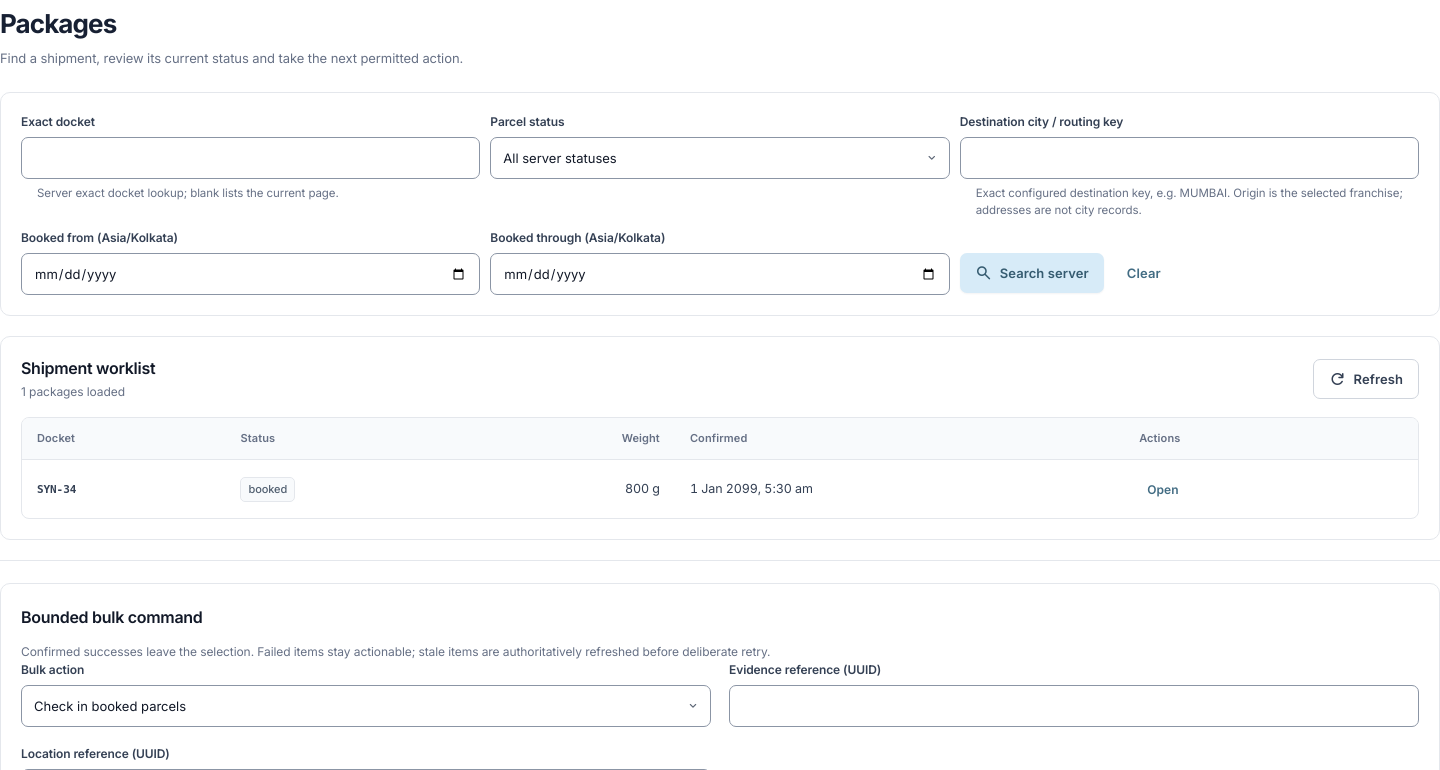
Test case: production operational screens › uses guarded package actions and directs new money recording to receipt evidence without OTP or delivery bypasses
Step 1. Click the button "Open" → x=1163, y=489, box left=1139, top=472, right=1187, bottom=506
(page scrolled)
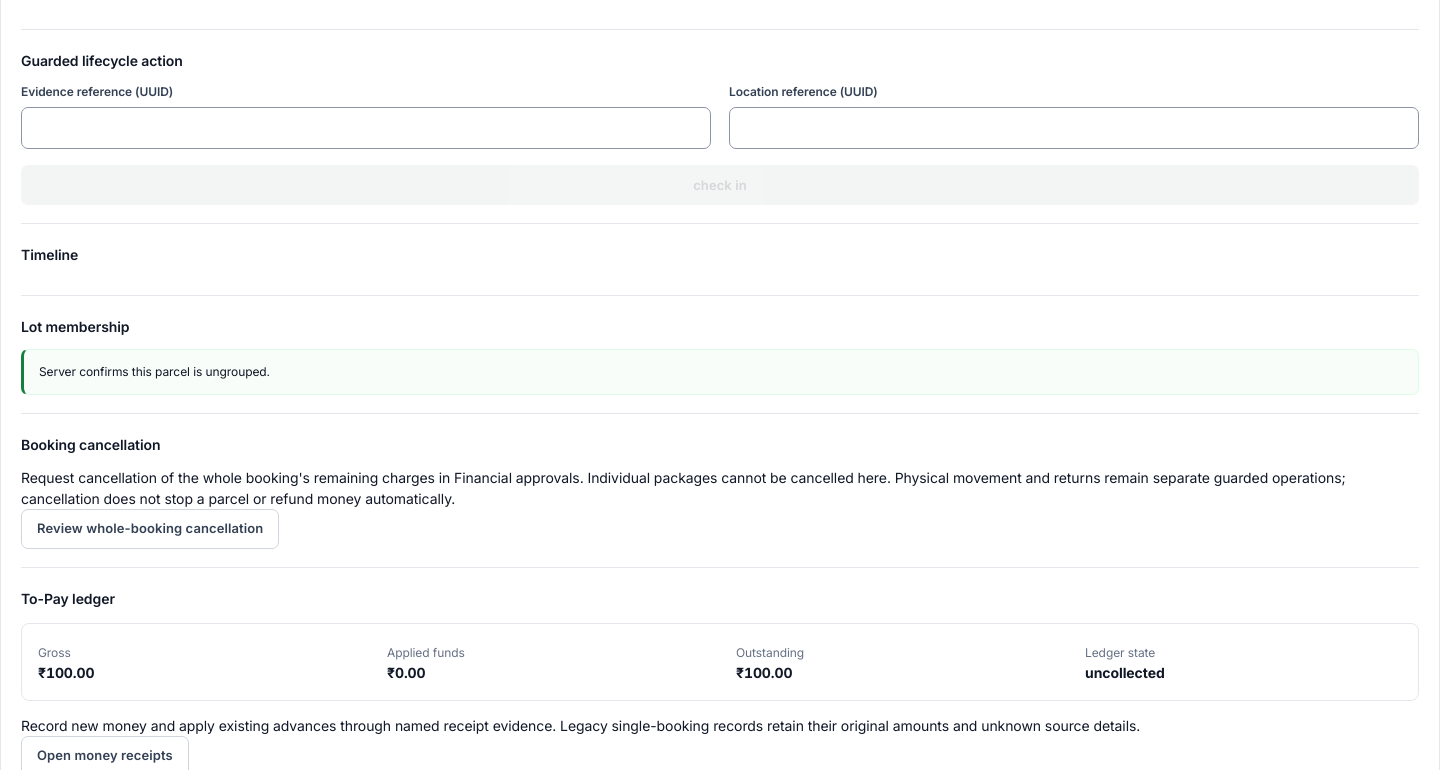
Check: the heading "To-Pay ledger" is shown, box left=21, top=590, right=115, bottom=607
Check: the text "uncollected" is shown, box left=1085, top=664, right=1165, bottom=681
Check: the button "check in" is shown, box left=21, top=165, right=1419, bottom=205
